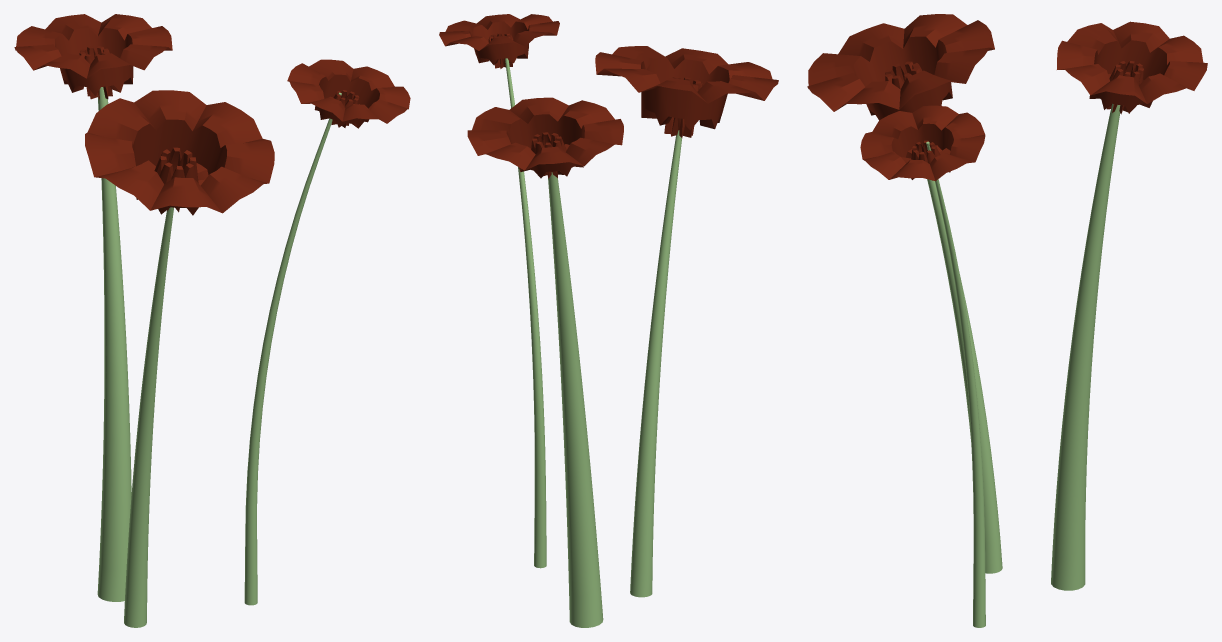
File: flowers-red.fbx
3 views of the same model, side by side, from view 1: azimuth 30°, elevation 25°; view 2: azimuth 150°, elevation 25°; view 3: azimuth 270°, elevation 25° (orthographic). The views are drawn at different scales.
Visible parts, largest first — view 1: Disc_3, Cone_2, Disc_2, Cone_3, Disc, Cone; view 2: Cone_2, Disc_3, Disc_2, Cone_3, Cone, Disc; view 3: Disc_3, Cone_2, Disc_2, Disc, Cone, Cone_3.
Part boxes in pixels (bbox=[...]): Disc_3: bbox=[85, 90, 274, 215]; Cone_2: bbox=[97, 87, 131, 601]; Disc_2: bbox=[14, 14, 172, 100]; Cone_3: bbox=[124, 207, 173, 627]; Disc: bbox=[287, 59, 410, 128]; Cone: bbox=[244, 92, 341, 605]; Cone_2: bbox=[548, 172, 603, 627]; Disc_3: bbox=[595, 46, 778, 137]; Disc_2: bbox=[467, 97, 623, 178]; Cone_3: bbox=[630, 130, 681, 597]; Cone: bbox=[505, 58, 546, 568]; Disc: bbox=[439, 14, 559, 68]; Disc_3: bbox=[807, 14, 994, 120]; Cone_2: bbox=[1051, 103, 1120, 590]; Disc_2: bbox=[1057, 21, 1207, 114]; Disc: bbox=[860, 105, 985, 181]; Cone: bbox=[926, 141, 985, 627]; Cone_3: bbox=[927, 179, 1002, 573].
Bounding box in the file's own units: 13.51 × 21.66 × 14.69.
